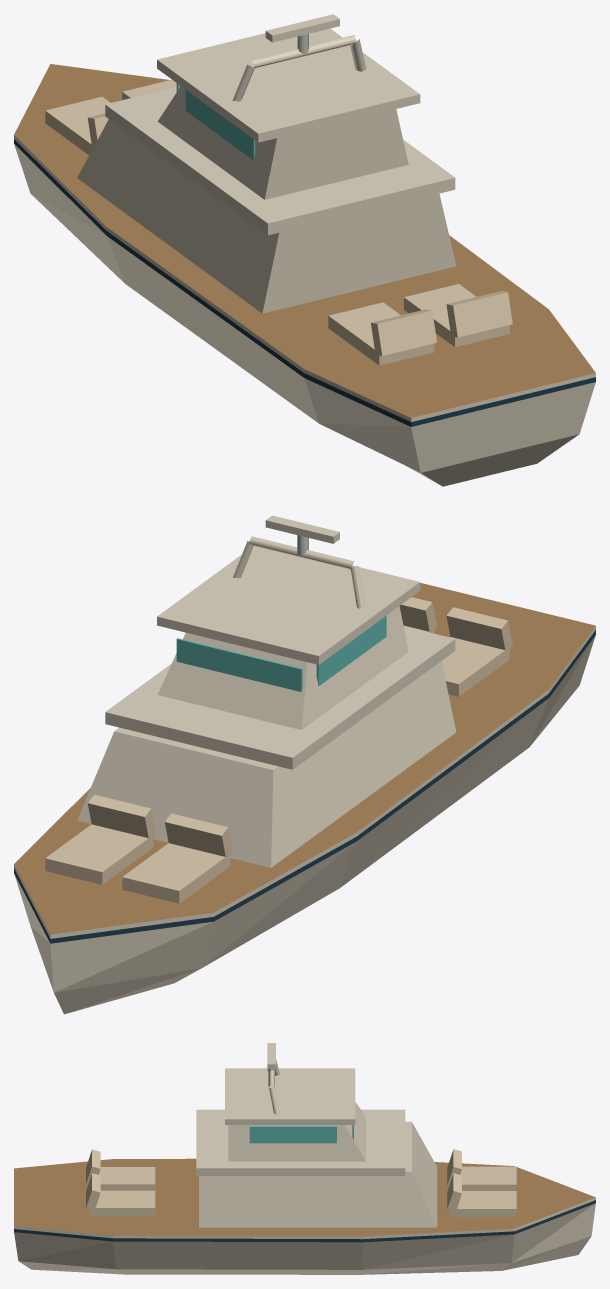
File: yacht.glb
3 renders of one model, top to bottom at view 1: azimuth 30°, elevation 25°; view 2: azimuth 150°, elevation 25°; view 3: azimuth 270°, elevation 25°, orthographic. The views are drawn at different scales.
Parts seen in each view (by area): view 1: static_painted, static_glass; view 2: static_painted, static_glass; view 3: static_painted, static_glass.
Boxes of the visible parts, x1,y1,x2,y2 form: static_painted: [14, 14, 595, 486]; static_glass: [176, 83, 255, 160]; static_painted: [14, 515, 595, 1014]; static_glass: [176, 615, 386, 691]; static_painted: [14, 1043, 595, 1274]; static_glass: [249, 1125, 353, 1143].
Bounding box in the file's own units: 3.5 × 4.2 × 11.
